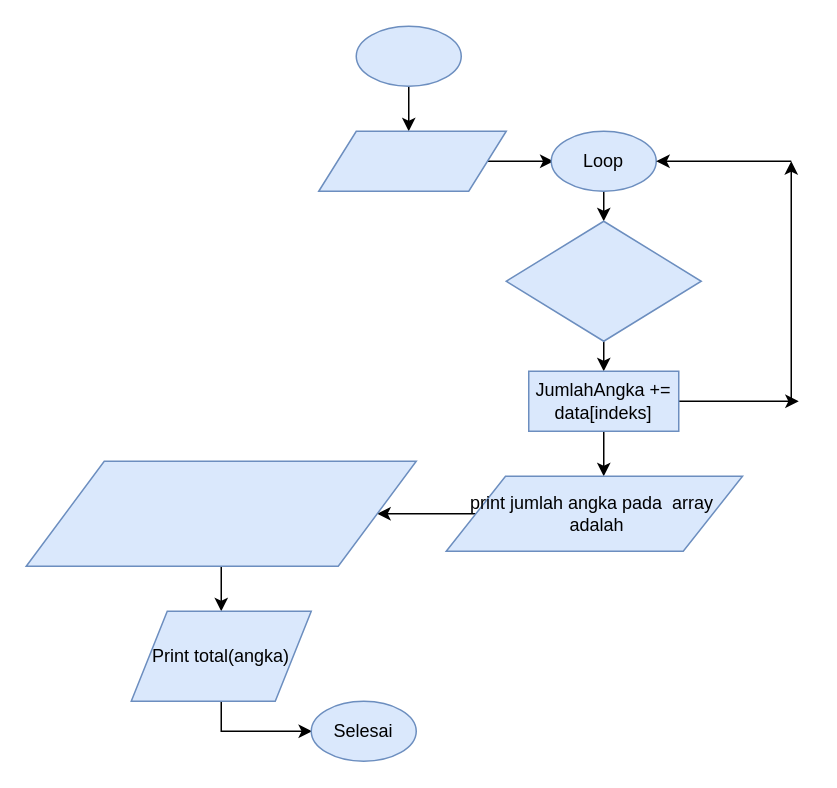
The diagram is 837 pixels wide and 788 high, and some of its shapes have lost their labels. Each missing label, with the centre of its shape:
"int indek=0; indeks < angka;indeks++" belongs at [603,280].
"int jumlahangka" belongs at [411,160].
"int[] angka = (82,12,41,38,19,26,9,48,20,55,8,32,3)" belongs at [220,513].
